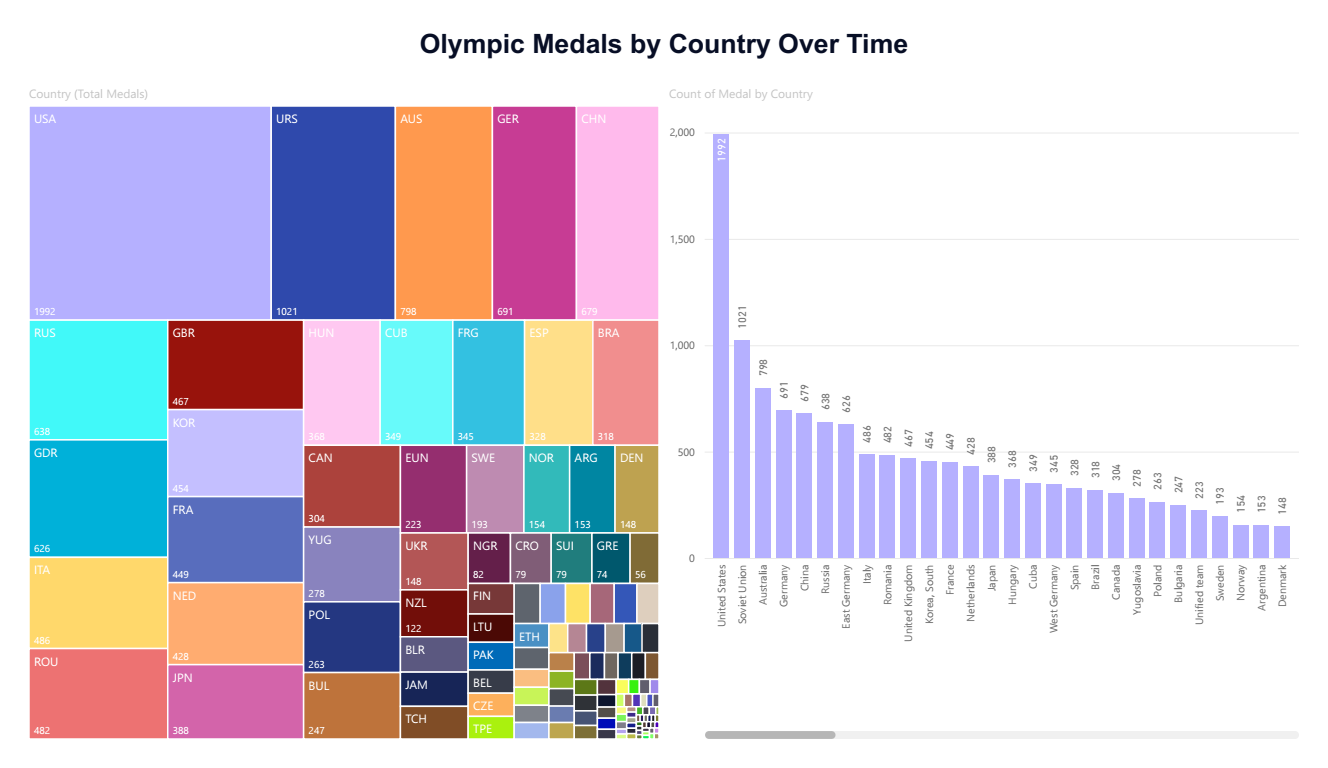

Layout of this report page (visuals, bound fields, positions):
{"tool":"powerbi","page":{"name":"Dashboard- 1","canvas":[1280,720],"ordinal":0},"visuals":[{"type":"treemap","title":"Country (Total Medals)","fields":{"Group":["Summer-Olympic-medals-1976-to-2008.Country_Code"],"Values":["CountNonNull(Summer-Olympic-medals-1976-to-2008.Medal)"]},"box":[0,61.4,640.5,658.7],"z":0},{"type":"columnChart","fields":{"Category":["Summer-Olympic-medals-1976-to-2008.Country"],"Y":["CountNonNull(Summer-Olympic-medals-1976-to-2008.Medal)"]},"box":[639.5,61.4,640.5,658.7],"z":1000},{"type":"textbox","box":[0,0,1280,61.4],"z":2000}]}

Visuals, with their boxes in screenshot pixels (x1, y1, x2, y2), scaled from the page's 1280x720 canvas onto the 1328x768 screenshot:
"Country (Total Medals)" treemap: crop(0, 65, 665, 767)
columnChart - Summer-Olympic-medals-1976-to-2008.Country x CountNonNull(Summer-Olympic-medals-1976-to-2008.Medal): crop(663, 65, 1327, 767)
textbox: crop(0, 0, 1327, 65)
